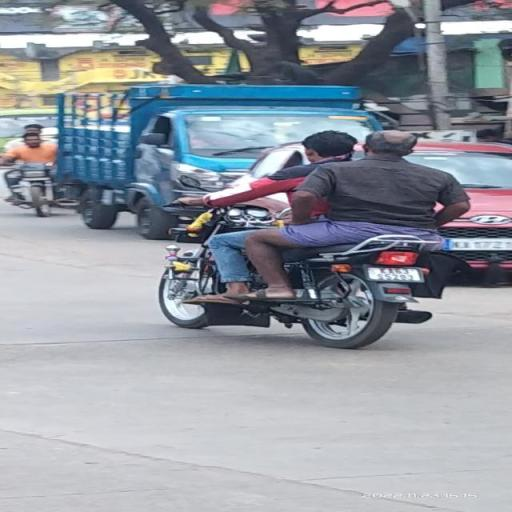bike: (157, 127, 473, 351)
numberplate: (363, 264, 422, 282)
withouthelmet: (306, 132, 354, 160), (366, 130, 416, 156)
